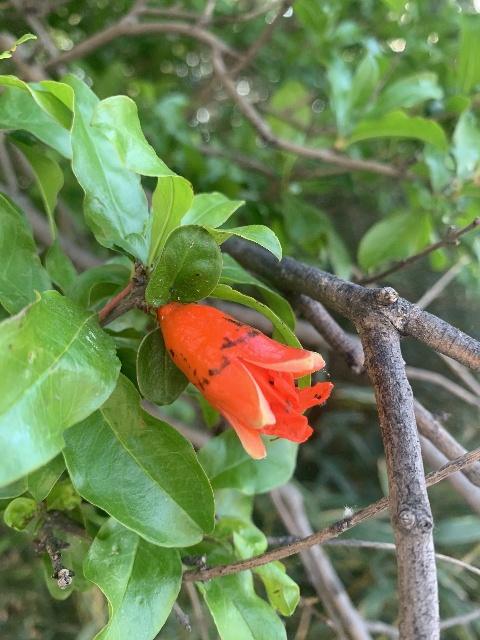flower: (158, 303, 333, 459)
